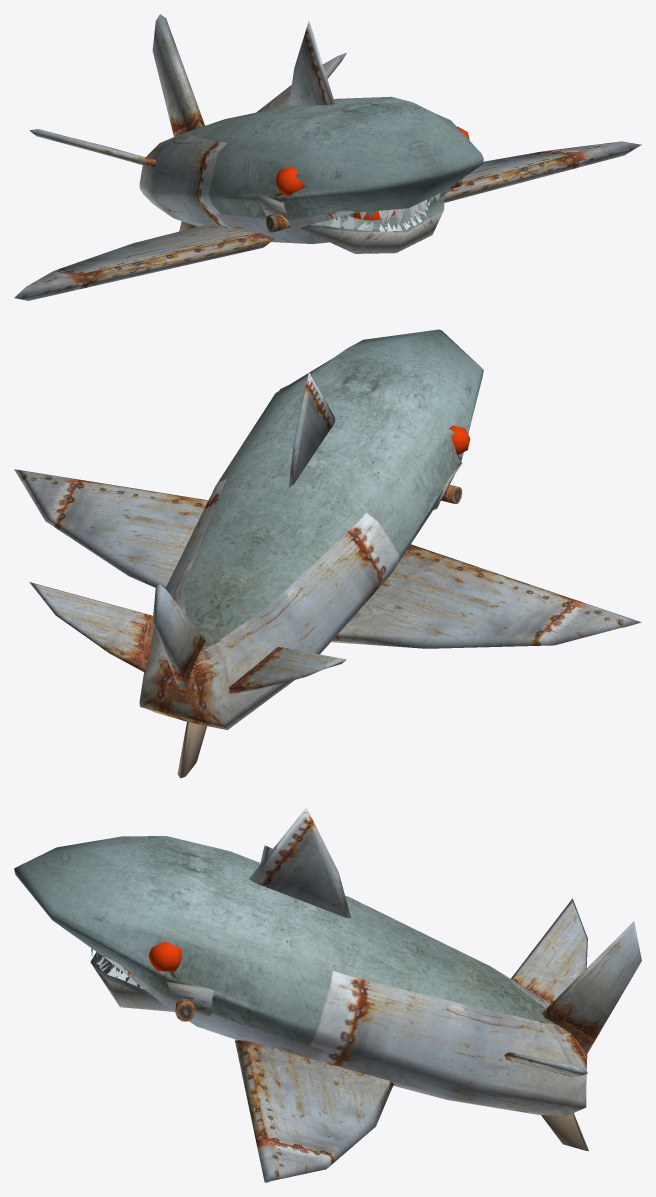
File: shark.glb
3 views of the same model, one above another, from view 1: azimuth 30°, elevation 25°; view 2: azimuth 150°, elevation 25°; view 3: azimuth 270°, elevation 25° (orthographic). The views are drawn at different scales.
Visible parts, largest first — view 1: Cube.005, Cube.006, Cube.007; view 2: Cube.005; view 3: Cube.005, Cube.006, Cube.007.
Boxes of the visible parts, bbox=[...] form: Cube.005: bbox=[14, 14, 641, 300]; Cube.006: bbox=[256, 191, 444, 253]; Cube.007: bbox=[275, 126, 469, 220]; Cube.005: bbox=[14, 329, 641, 778]; Cube.005: bbox=[14, 807, 641, 1182]; Cube.006: bbox=[90, 952, 214, 1016]; Cube.007: bbox=[148, 941, 181, 971].
Bounding box in the file's own units: 42.45 × 20.18 × 33.4.
Materials: 2 (1 with a texture image).
